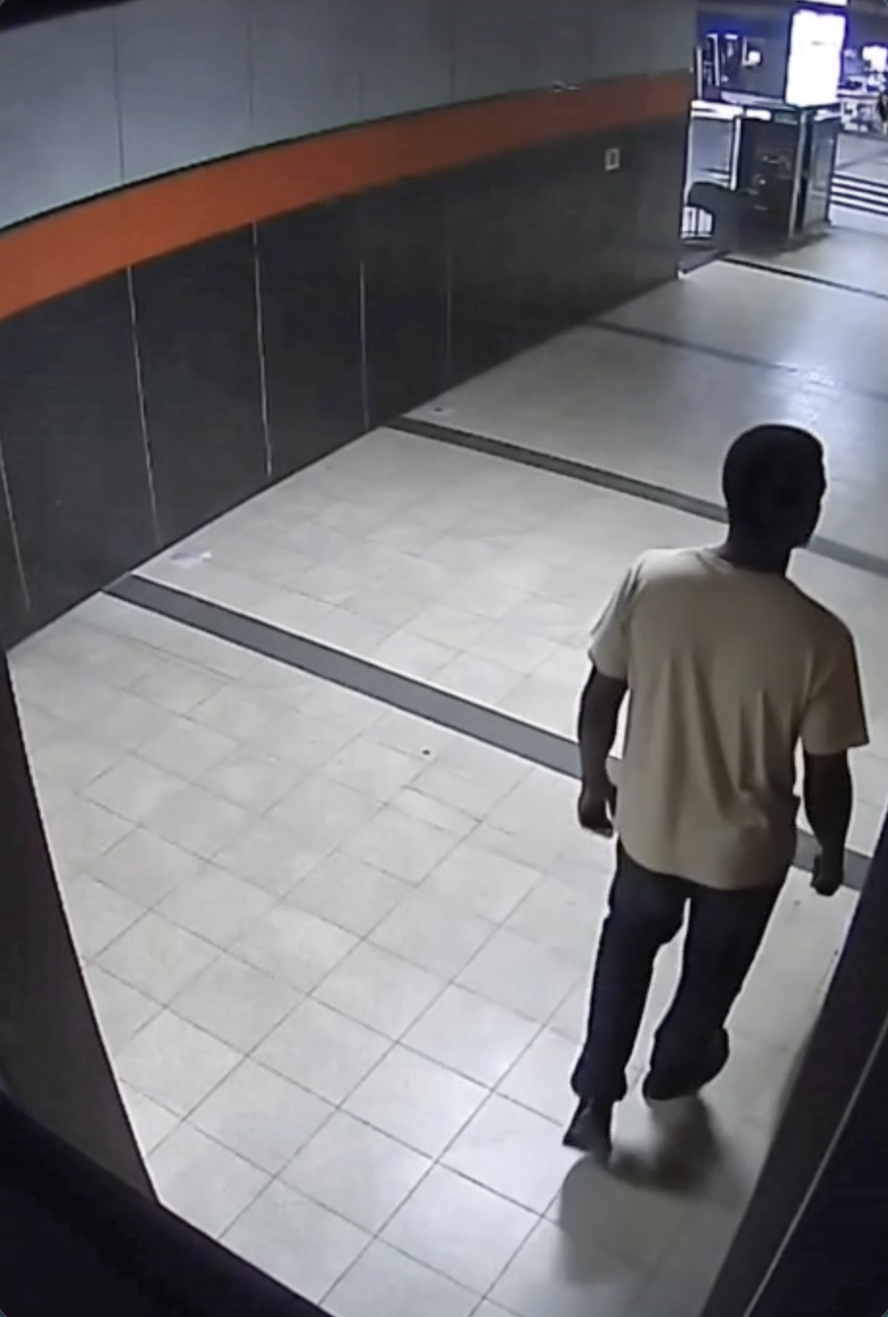Heavy Gun: (561, 426, 888, 1160)
